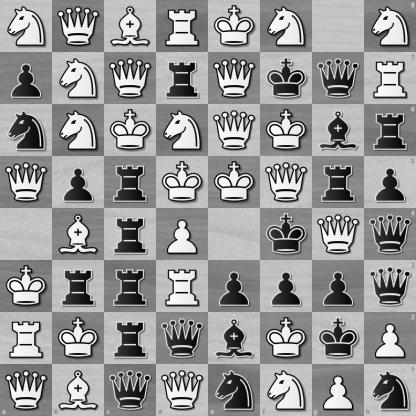B: (52, 364, 104, 416), (53, 209, 104, 260), (105, 1, 156, 52)
K: (1, 261, 52, 312), (53, 313, 104, 364), (105, 105, 156, 156), (157, 157, 208, 208), (209, 1, 260, 52), (209, 157, 260, 208), (261, 105, 312, 156), (261, 313, 312, 364)
N: (260, 364, 312, 416), (364, 0, 416, 52), (1, 1, 52, 52), (53, 53, 104, 104), (53, 105, 104, 156), (157, 105, 208, 156), (261, 1, 312, 52)
P: (312, 364, 364, 416), (364, 312, 416, 364), (157, 209, 208, 260)
Q: (156, 364, 209, 416), (0, 364, 52, 416), (1, 157, 52, 208), (53, 1, 104, 52), (105, 53, 156, 104), (209, 53, 260, 104), (209, 105, 260, 156), (261, 157, 312, 208), (313, 209, 364, 260)
R: (364, 52, 416, 104), (1, 313, 52, 364), (157, 1, 208, 52), (157, 261, 208, 312)
b: (209, 313, 260, 364), (313, 105, 364, 156)
board: (0, 0, 415, 415)
k: (261, 53, 312, 104), (261, 209, 312, 260), (313, 313, 364, 364)
n: (364, 364, 416, 416), (209, 364, 260, 416), (1, 105, 52, 156)
p: (364, 156, 416, 209), (1, 53, 52, 104), (53, 157, 104, 208), (209, 261, 260, 312), (261, 261, 312, 312), (313, 261, 364, 312)
q: (104, 364, 156, 416), (364, 260, 416, 312), (364, 209, 416, 260), (157, 313, 208, 364), (313, 53, 364, 104)
r: (364, 104, 416, 156), (53, 261, 104, 312), (105, 157, 156, 208), (105, 209, 156, 260), (105, 261, 156, 312), (105, 313, 156, 364), (157, 53, 208, 104), (313, 157, 364, 208)
